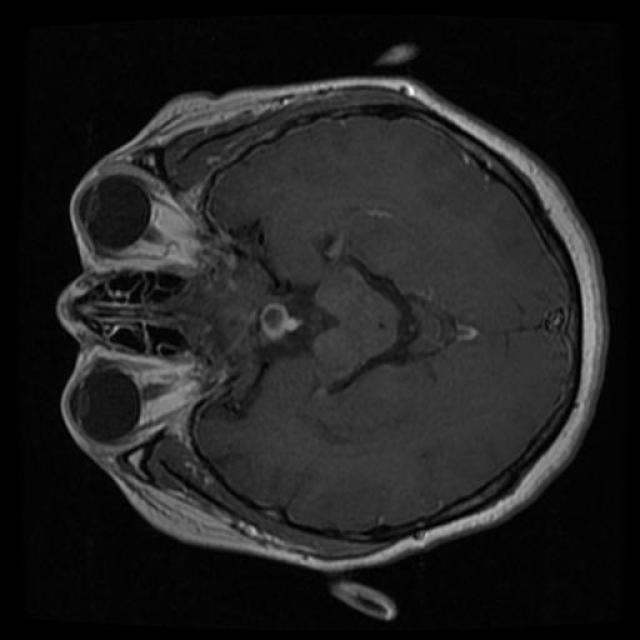Pituitary: (259, 303, 301, 343)
